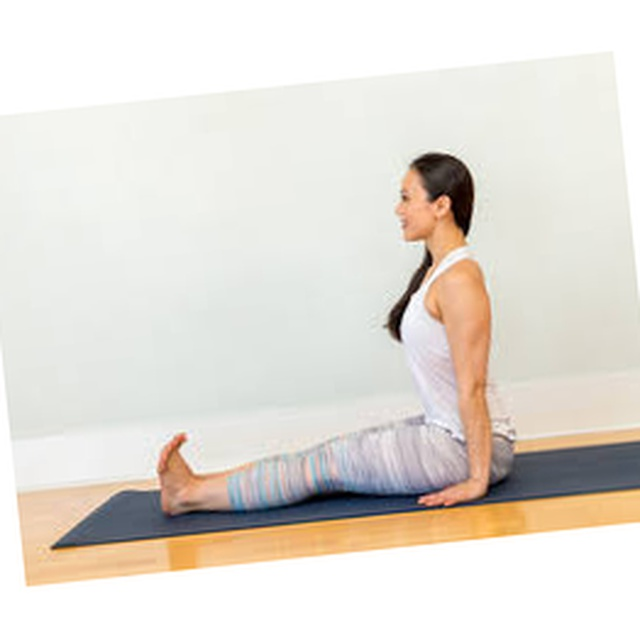Staff_Pose: (156, 150, 517, 519)
